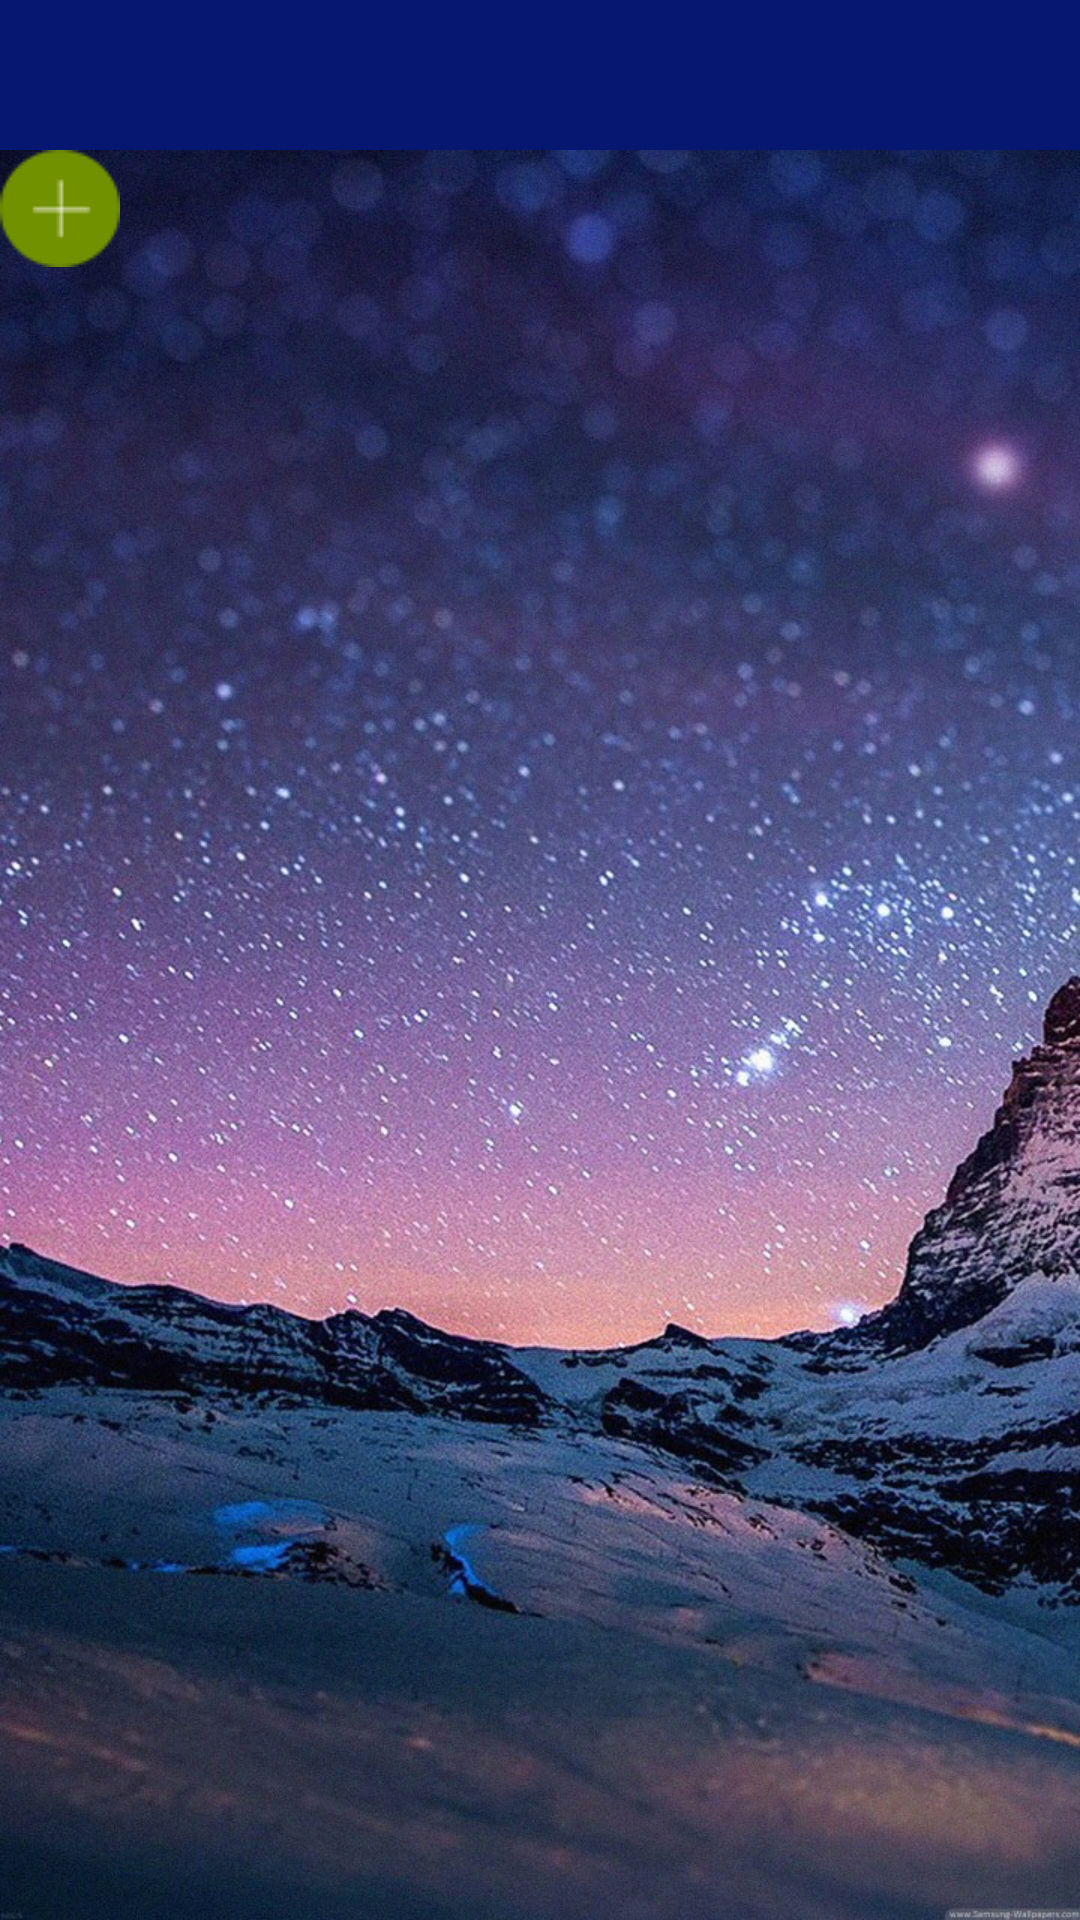

Screen size 1080*1920. Icon name, then its center in pixels as [x,y]:
cross: [60,208]
